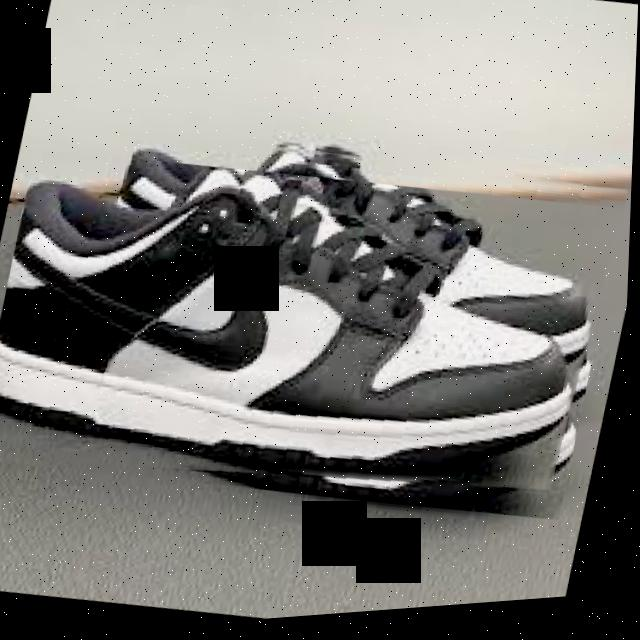shoe: (0, 81, 635, 563), (0, 114, 627, 560)
